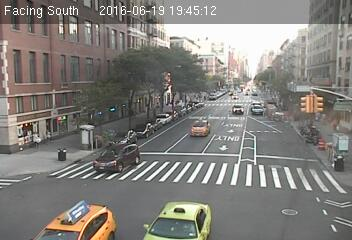neg: (99, 146, 130, 188), (25, 85, 56, 125), (43, 44, 71, 81), (204, 120, 232, 156), (286, 172, 312, 208), (185, 57, 210, 91), (44, 155, 69, 189), (263, 27, 288, 61), (303, 83, 328, 115), (132, 75, 156, 107), (244, 180, 268, 212), (245, 76, 269, 107), (182, 186, 203, 214), (118, 36, 138, 63), (19, 196, 39, 222), (82, 117, 100, 142), (302, 138, 320, 163), (147, 135, 164, 158), (334, 152, 350, 173)
